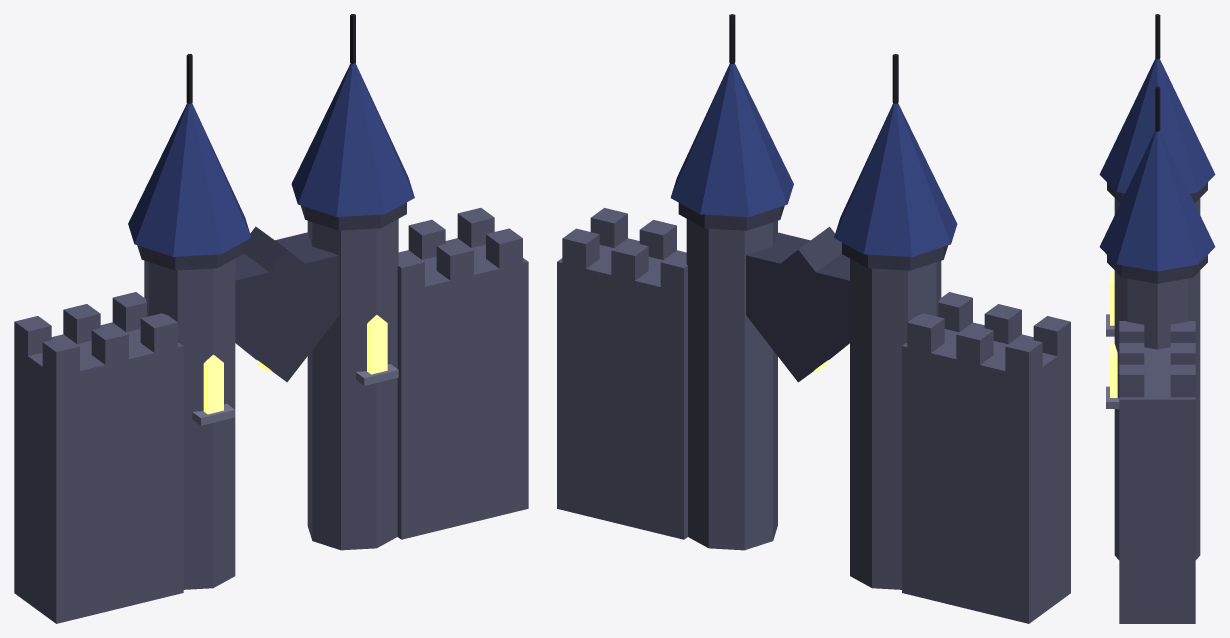
Rendered from vpc-wall-gate.glb.
3 renders of one model, left to right at view 1: azimuth 30°, elevation 25°; view 2: azimuth 150°, elevation 25°; view 3: azimuth 270°, elevation 25°, orthographic. The views are drawn at different scales.
Parts seen in each view (by area): view 1: cw_paint, cw_glow; view 2: cw_paint; view 3: cw_paint, cw_glow.
Boxes of the visible parts, x1,y1,x2,y2 form: cw_paint: [14, 14, 528, 623]; cw_glow: [203, 315, 387, 414]; cw_paint: [557, 14, 1070, 623]; cw_paint: [1099, 14, 1215, 623]; cw_glow: [1110, 271, 1117, 397].
Size of the model in its own units: 5.2 by 5.43 by 1.22.
